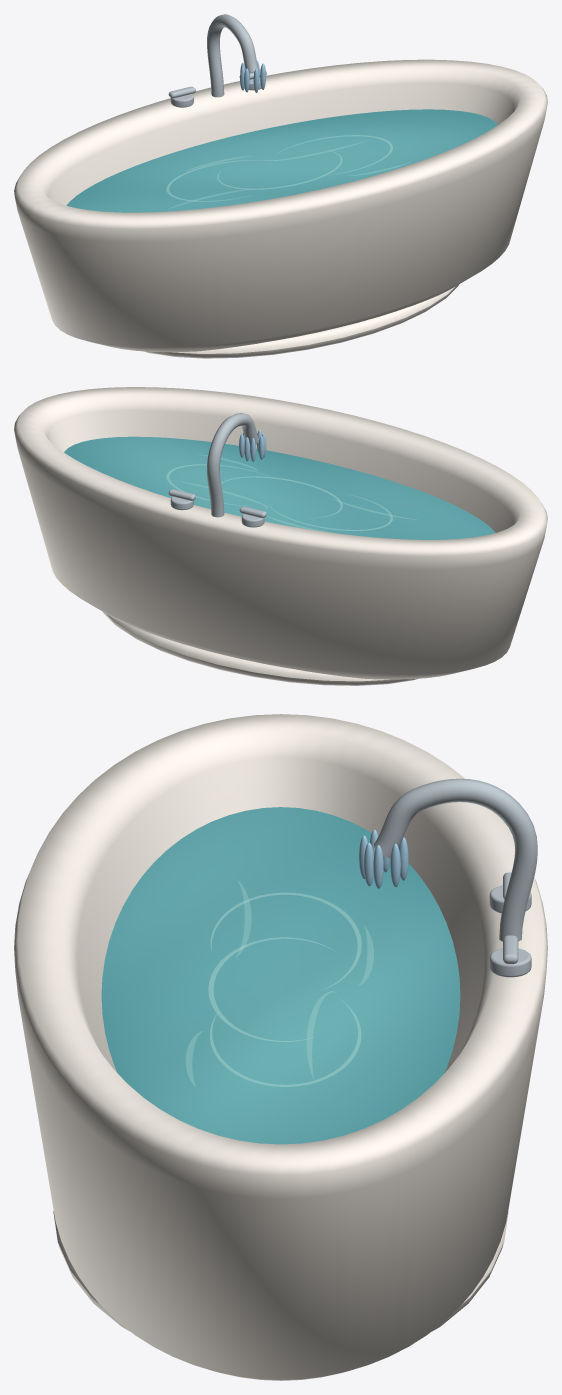
Rendered from bathroomBathOvalWhite.glb.
3 views of the same model, one above another, from view 1: azimuth 30°, elevation 25°; view 2: azimuth 150°, elevation 25°; view 3: azimuth 270°, elevation 25° (orthographic). The views are drawn at different scales.
Parts seen in each view (by area): view 1: Oval bath shell, Recessed bath water, Recessed bath plinth, Bath gooseneck faucet; view 2: Oval bath shell, Recessed bath water, Recessed bath plinth, Bath gooseneck faucet; view 3: Oval bath shell, Recessed bath water, Bath gooseneck faucet, Recessed bath plinth, Bath tap base.001.
Boxes of the visible parts, box(x1,y1,x2,y2) form: Oval bath shell: box(14, 59, 547, 352); Recessed bath water: box(66, 109, 497, 212); Recessed bath plinth: box(143, 284, 458, 358); Bath gooseneck faucet: box(207, 14, 258, 97); Oval bath shell: box(14, 387, 547, 679); Recessed bath water: box(64, 436, 495, 539); Recessed bath plinth: box(103, 612, 418, 685); Bath gooseneck faucet: box(207, 413, 258, 517); Oval bath shell: box(14, 714, 547, 1380); Recessed bath water: box(101, 807, 460, 1144); Bath gooseneck faucet: box(374, 778, 537, 941); Recessed bath plinth: box(53, 1211, 508, 1331); Bath tap base.001: box(489, 948, 531, 977).
Size of the model in its own units: 2.46 by 1.12 by 1.22.
